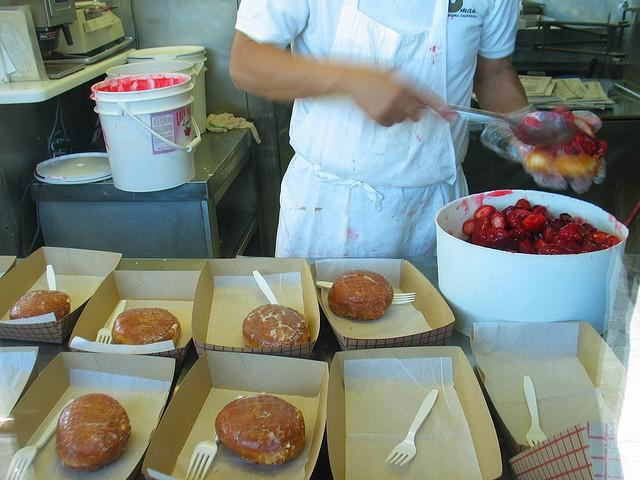strawberry: (472, 215, 492, 247), (506, 228, 532, 252), (558, 222, 588, 242), (570, 134, 598, 155), (486, 227, 512, 249), (523, 212, 547, 233), (473, 205, 498, 220), (488, 211, 507, 229), (586, 232, 610, 246), (598, 235, 621, 249), (506, 212, 524, 229), (558, 240, 580, 253), (519, 239, 538, 254), (542, 225, 558, 241), (534, 239, 550, 254), (515, 198, 532, 212), (534, 206, 550, 220), (597, 140, 608, 158), (525, 117, 541, 128), (564, 112, 575, 122)
